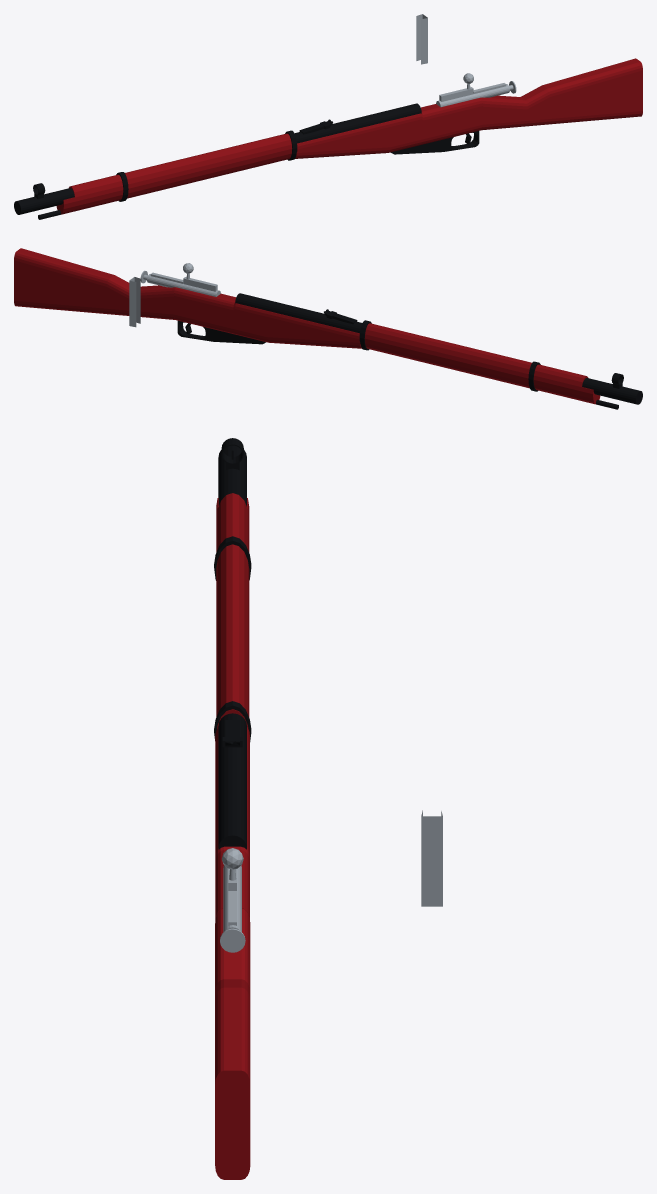
The model's file is mosin-nagant0048.obj.
3 views of the same model, one above another, from view 1: azimuth 30°, elevation 25°; view 2: azimuth 150°, elevation 25°; view 3: azimuth 270°, elevation 25° (orthographic). The views are drawn at different scales.
Visible parts, largest first — view 1: stock, barrel, triggerGuard, clip, bolt; view 2: stock, barrel, triggerGuard, clip, bolt, boltLocker; view 3: stock, barrel, clip.
Boxes of the visible parts, <box> form: stock: <box>56,58,642,214</box>; barrel: <box>14,103,421,214</box>; triggerGuard: <box>390,131,479,154</box>; clip: <box>416,14,427,64</box>; bolt: <box>436,84,509,107</box>; stock: <box>14,248,600,404</box>; barrel: <box>235,293,642,404</box>; triggerGuard: <box>177,320,265,344</box>; clip: <box>129,277,140,327</box>; bolt: <box>147,274,220,296</box>; boltLocker: <box>183,277,217,291</box>; stock: <box>215,493,250,1179</box>; barrel: <box>218,445,246,849</box>; clip: <box>421,810,442,906</box>.
Bounding box in the file's own units: 16.32 × 2.57 × 2.6.
